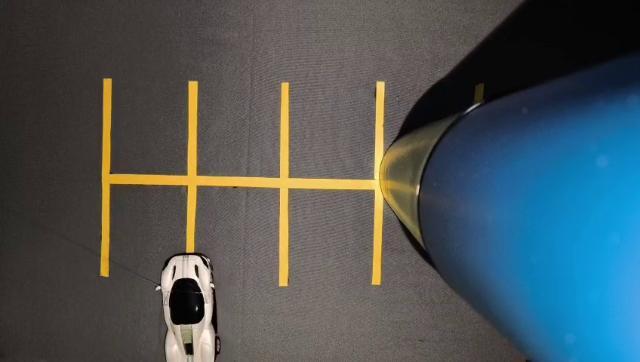toy_car: (142, 245, 256, 362)
